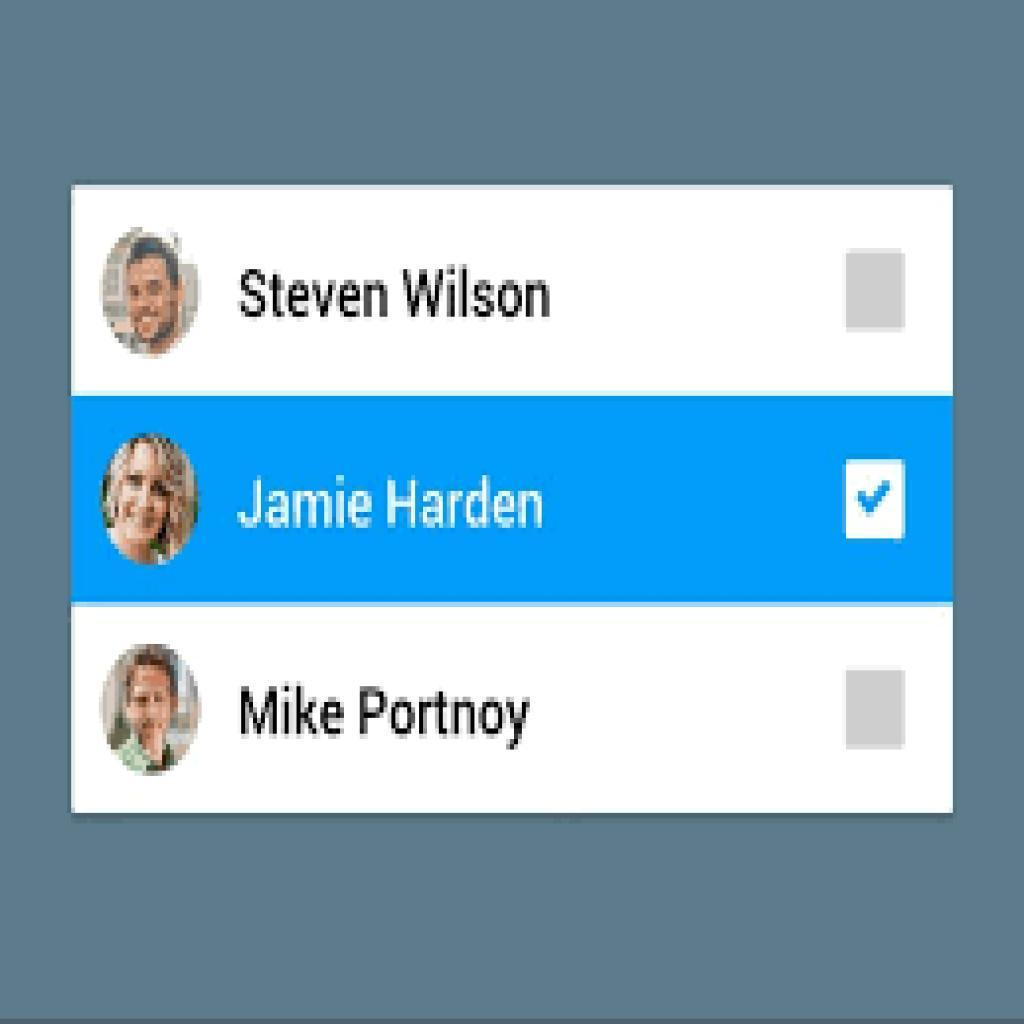checkbox: (846, 460, 907, 540), (846, 669, 907, 748), (850, 251, 907, 334)
label: (240, 265, 555, 342), (234, 476, 559, 545), (235, 680, 541, 750)
